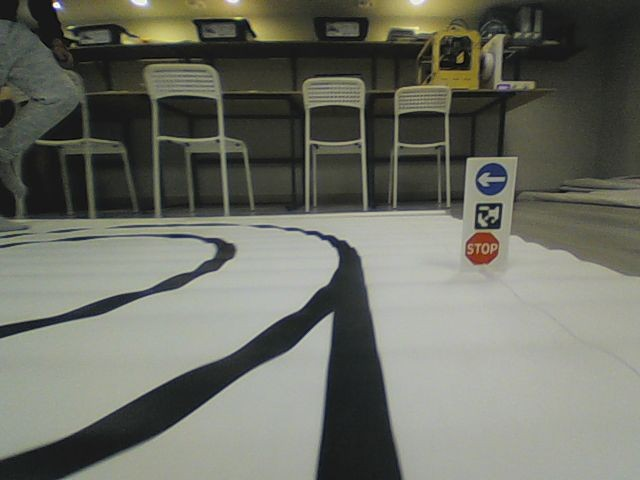Stop: (463, 230, 500, 266)
